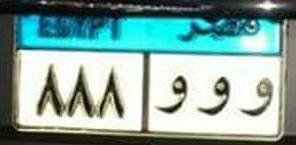8: (33, 58, 65, 118), (66, 57, 95, 120), (96, 64, 126, 124)
waw: (235, 72, 275, 120), (150, 74, 190, 120), (196, 74, 231, 121)
